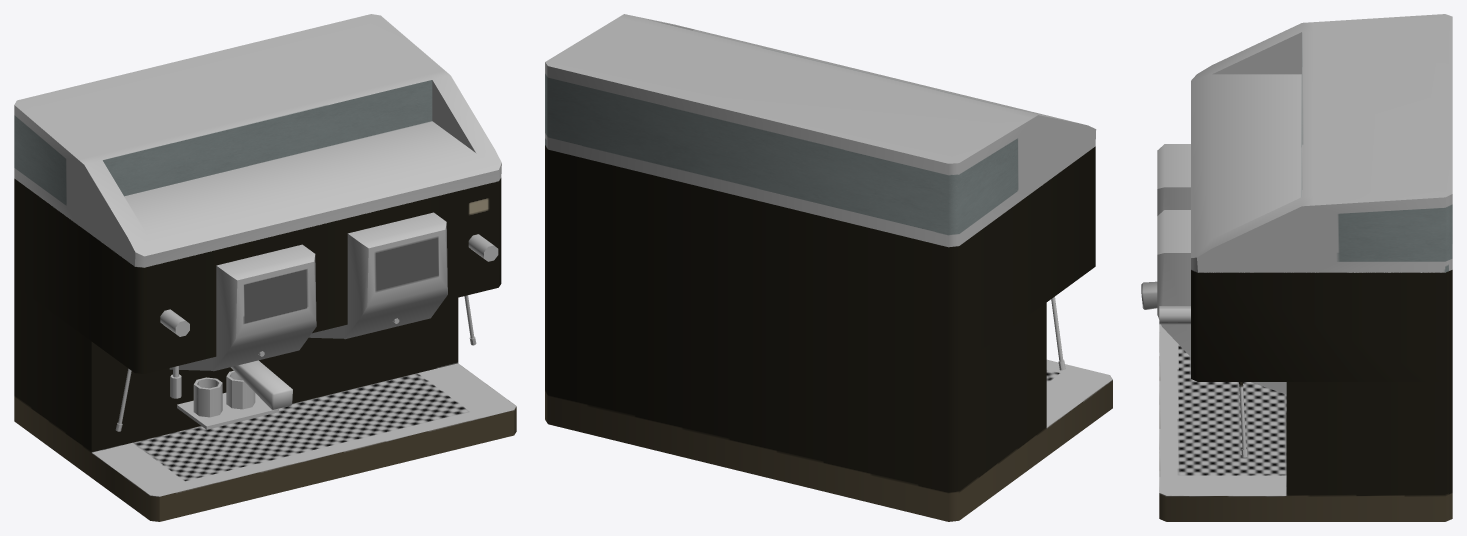
File: LC_3041_CoffeeMachine_LOD2.FBX
3 renders of one model, left to right at view 1: azimuth 30°, elevation 25°; view 2: azimuth 150°, elevation 25°; view 3: azimuth 270°, elevation 25°, orthographic. The views are drawn at different scales.
Visible parts, largest first — view 1: LC_3041_CoffeeMachine_LOD2; view 2: LC_3041_CoffeeMachine_LOD2; view 3: LC_3041_CoffeeMachine_LOD2.
Part boxes in pixels (x1=…): LC_3041_CoffeeMachine_LOD2: x1=14, y1=14, x2=516, y2=521; LC_3041_CoffeeMachine_LOD2: x1=545, y1=14, x2=1112, y2=521; LC_3041_CoffeeMachine_LOD2: x1=1141, y1=14, x2=1452, y2=521.
Bounding box in the file's own units: 75 × 61.97 × 53.77.
1 material, 1 textured.
